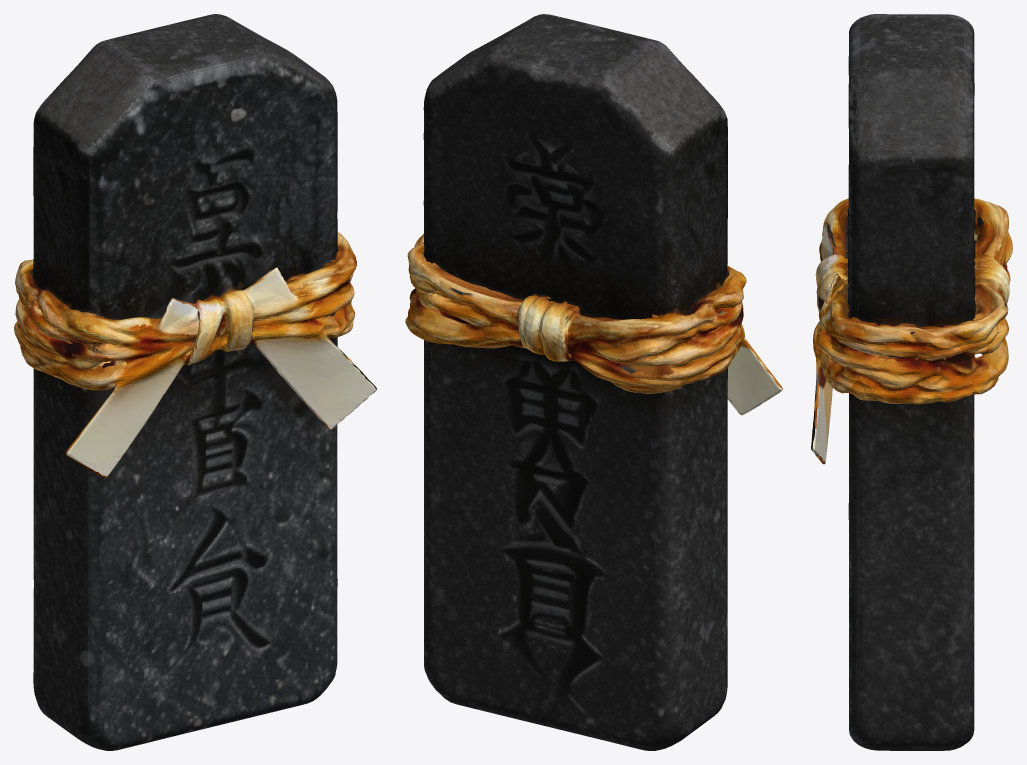
File: volcano_cave_rope_waymarker.glb
3 renders of one model, left to right at view 1: azimuth 30°, elevation 25°; view 2: azimuth 150°, elevation 25°; view 3: azimuth 270°, elevation 25°, orthographic.
Parts seen in each view (by area): view 1: temp_mesh.ply; view 2: temp_mesh.ply; view 3: temp_mesh.ply.
Part boxes in pixels (x1,y1,x2,y2): temp_mesh.ply: [14, 14, 376, 750]; temp_mesh.ply: [405, 14, 782, 750]; temp_mesh.ply: [811, 14, 1012, 750].
Size of the model in its own units: 0.9714 by 1.97 by 0.5473.
1 material, 1 textured.
